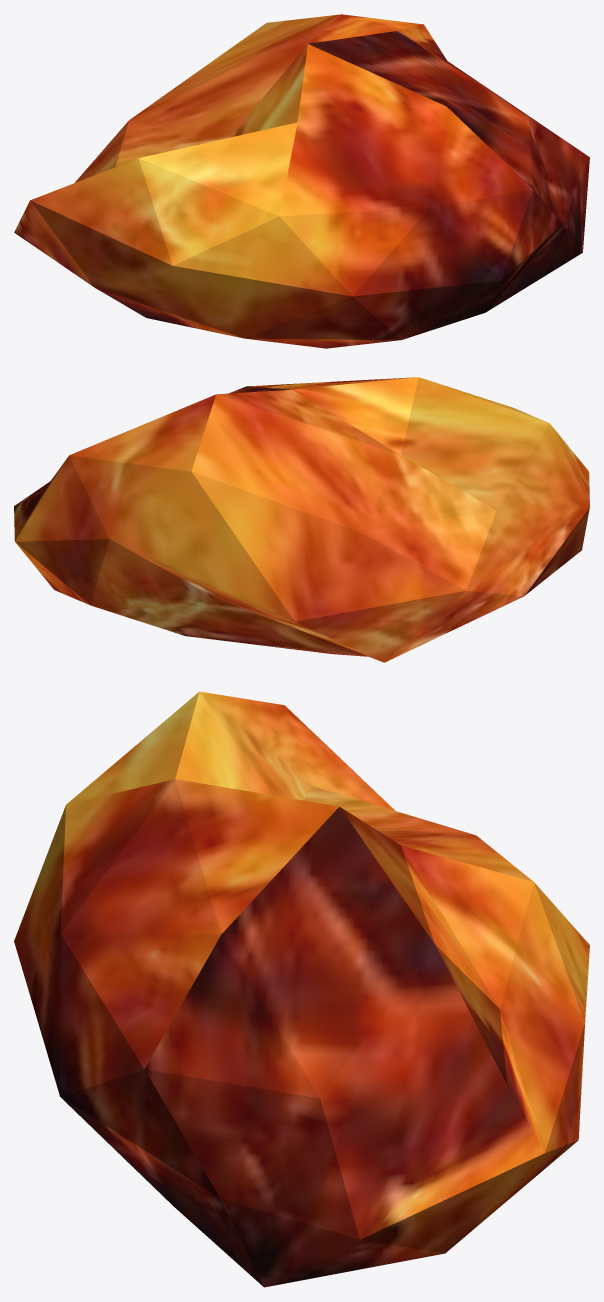
File: ResultEarth13.obj
3 renders of one model, top to bottom at view 1: azimuth 30°, elevation 25°; view 2: azimuth 150°, elevation 25°; view 3: azimuth 270°, elevation 25°, orthographic. The views are drawn at different scales.
Parts seen in each view (by area): view 1: ICO球.002; view 2: ICO球.002; view 3: ICO球.002.
Boxes of the visible parts, x1=… form: ICO球.002: x1=14, y1=14, x2=589, y2=348; ICO球.002: x1=14, y1=377, x2=589, y2=662; ICO球.002: x1=14, y1=691, x2=589, y2=1287.
Bounding box in the file's own units: 0.231 × 0.103 × 0.1498.
Materials: 1 (1 with a texture image).
